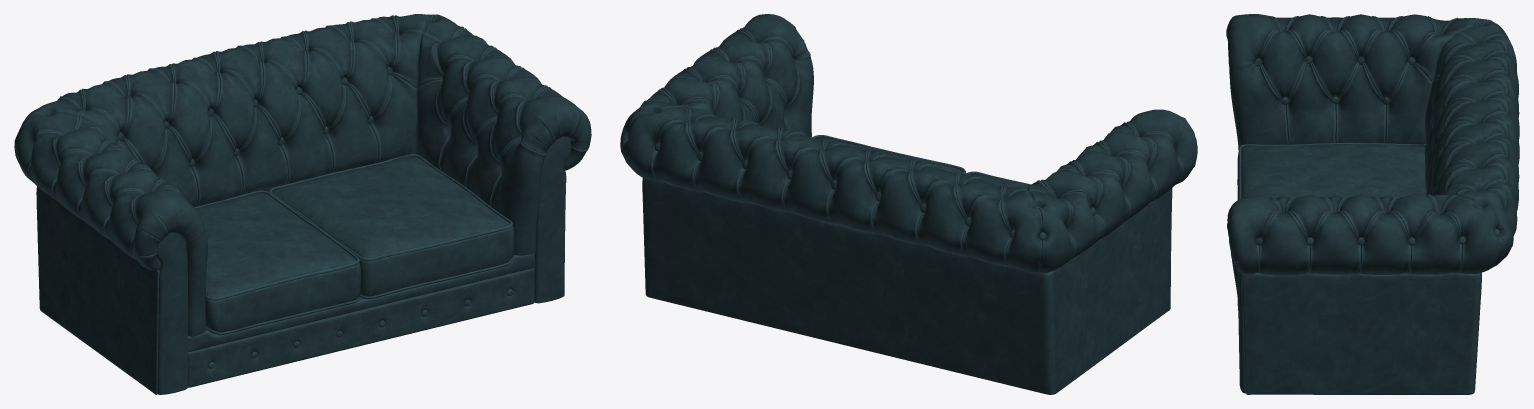
Rendered from SingleSofa.glb.
The picture shows the model from 3 angles, left to right: view 1: azimuth 30°, elevation 25°; view 2: azimuth 150°, elevation 25°; view 3: azimuth 270°, elevation 25°; orthographic projection. The views are drawn at different scales.
Parts seen in each view (by area): view 1: sofa_geo1; view 2: sofa_geo1; view 3: sofa_geo1.
Part boxes in pixels (x1,y1,x2,y2): sofa_geo1: [14, 14, 591, 394]; sofa_geo1: [620, 14, 1197, 394]; sofa_geo1: [1226, 14, 1519, 394].
Size of the model in its own units: 1.66 by 0.7126 by 0.9574.
Materials: 2 (1 with a texture image).
